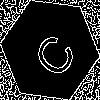C: (25, 25, 79, 81)
